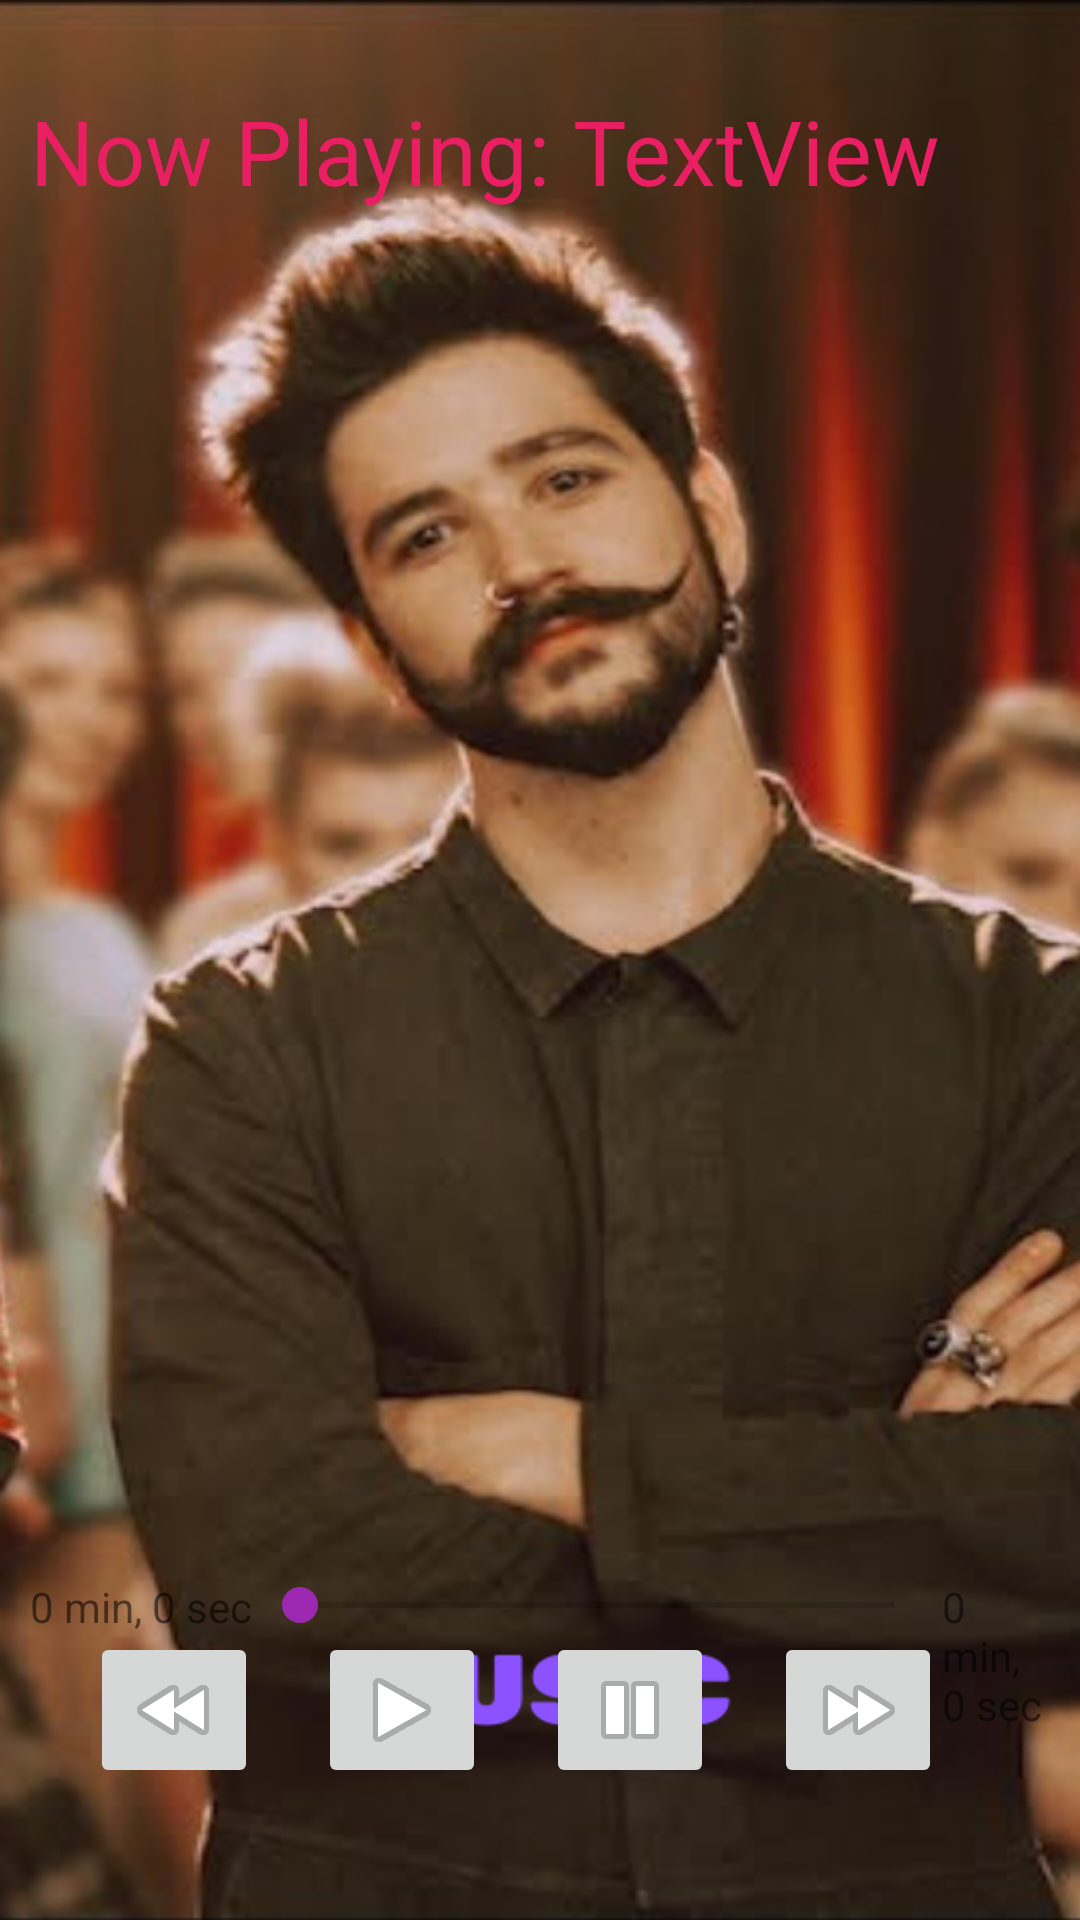

Where to tap for icons on this 1080 x 1920 app screen, as (x=x, y=y):
pause: (x=630, y=1710)
play: (x=408, y=1710)
rew: (x=174, y=1710)
